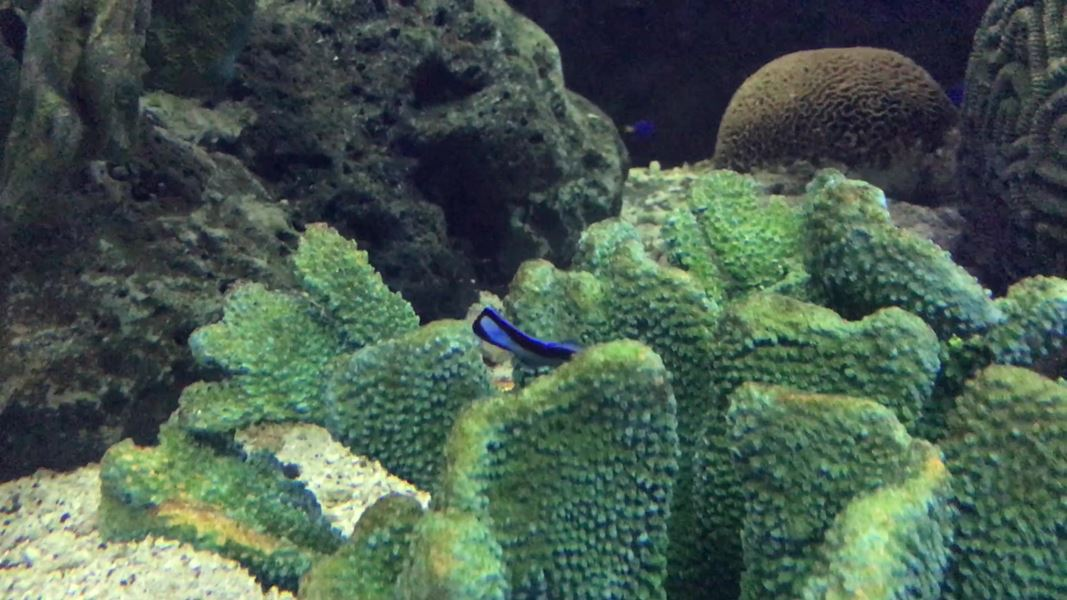Bluesteak cleaner wrasse: (458, 299, 603, 395)
